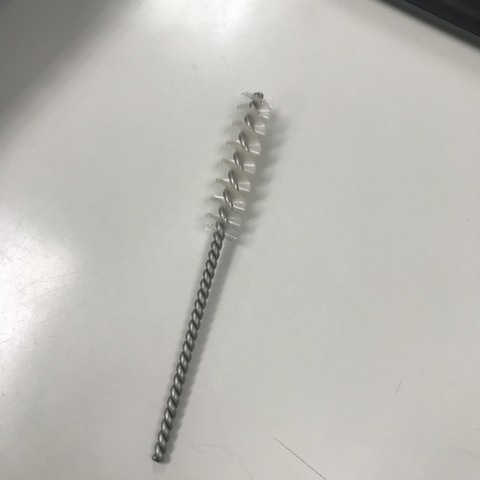Twist Brush-B: (150, 89, 289, 469)
